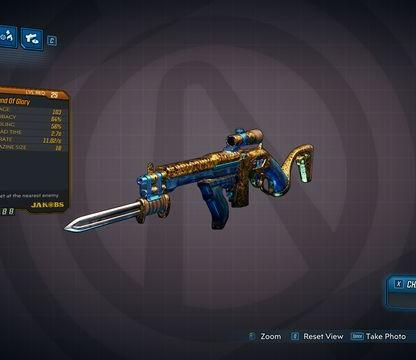rifle: (64, 124, 317, 249)
